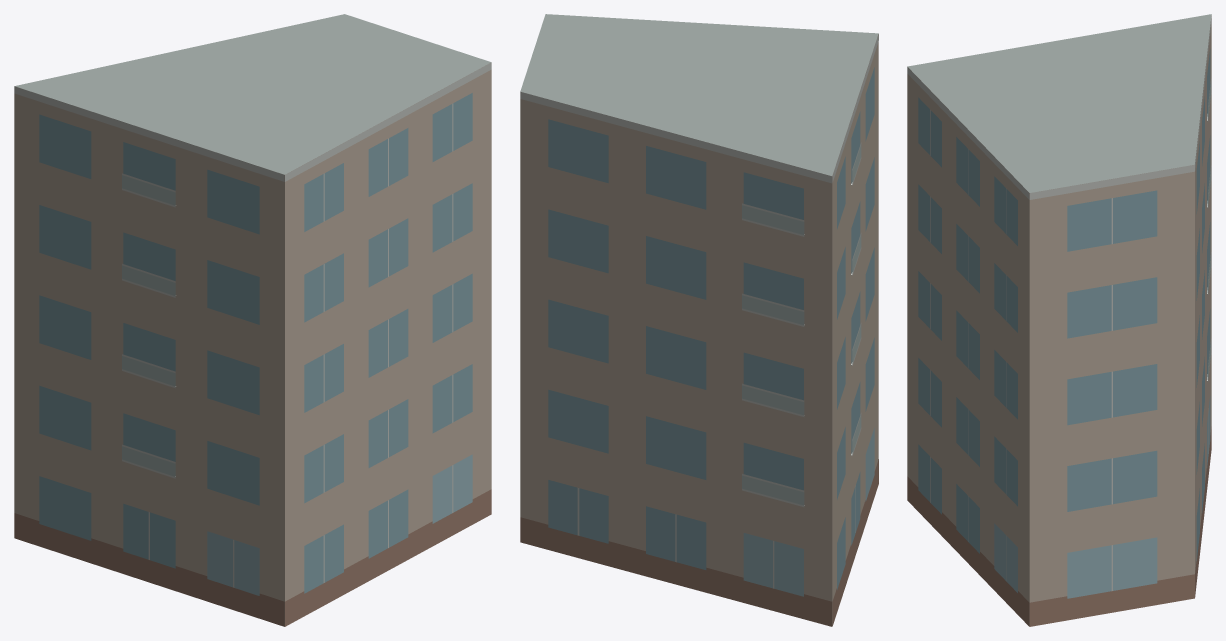
File: residential-0ecc8065-3616-4b63-b8b6-2f979ee2cfb1.glb
3 renders of one model, left to right at view 1: azimuth 30°, elevation 25°; view 2: azimuth 150°, elevation 25°; view 3: azimuth 270°, elevation 25°, orthographic. The views are drawn at different scales.
Visible parts, largest first — view 1: residential-0ecc8065-3616-4b63-b8b6-2f979ee2cfb1.tmp; view 2: residential-0ecc8065-3616-4b63-b8b6-2f979ee2cfb1.tmp; view 3: residential-0ecc8065-3616-4b63-b8b6-2f979ee2cfb1.tmp.
Boxes of the visible parts, x1,y1,x2,y2 form: residential-0ecc8065-3616-4b63-b8b6-2f979ee2cfb1.tmp: (14,14,491,626); residential-0ecc8065-3616-4b63-b8b6-2f979ee2cfb1.tmp: (520,14,878,626); residential-0ecc8065-3616-4b63-b8b6-2f979ee2cfb1.tmp: (907,14,1211,626).
Size of the model in its own units: 13.52 by 15.25 by 9.71.
